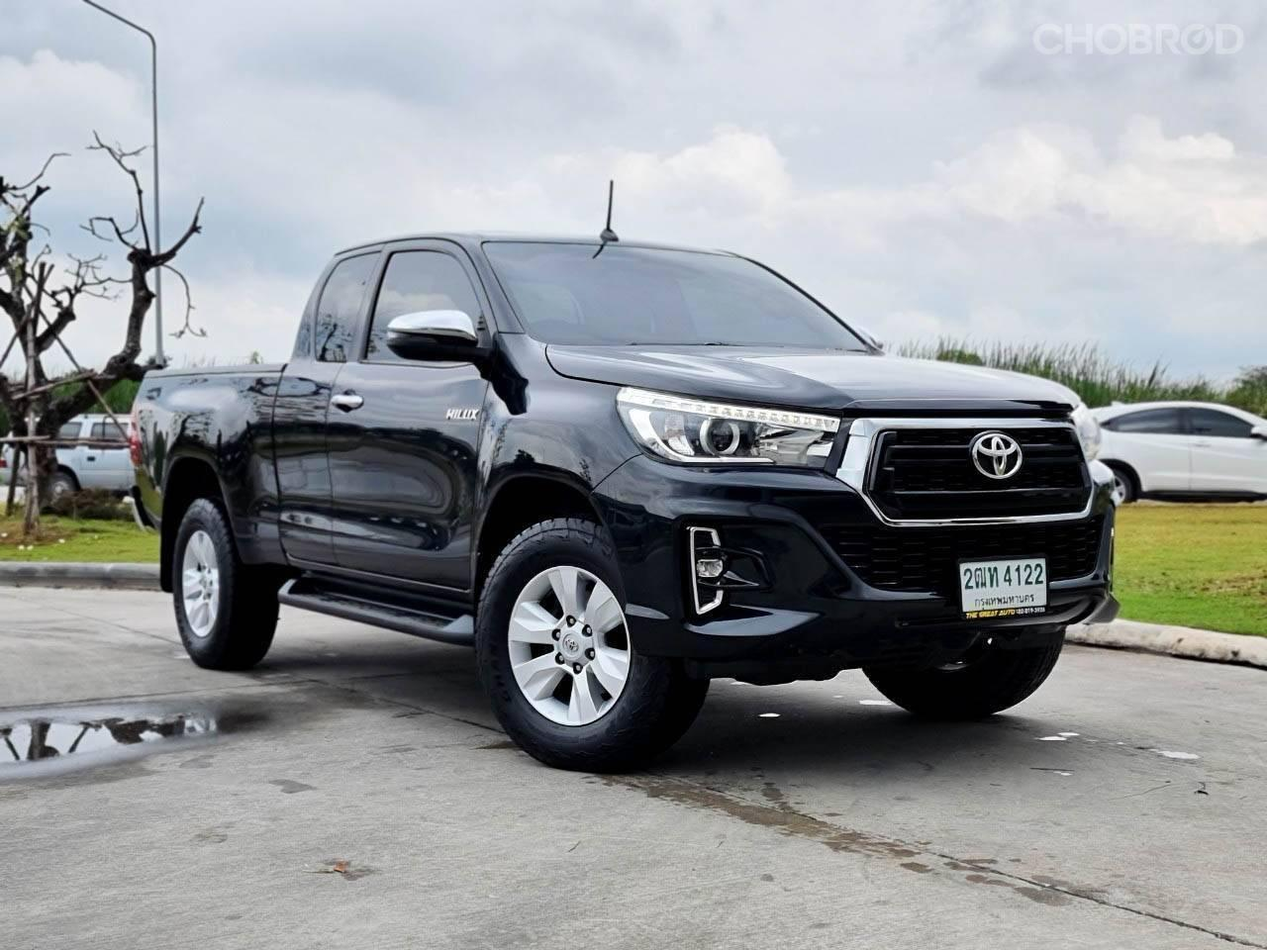license-plate: (955, 549, 1059, 629)
